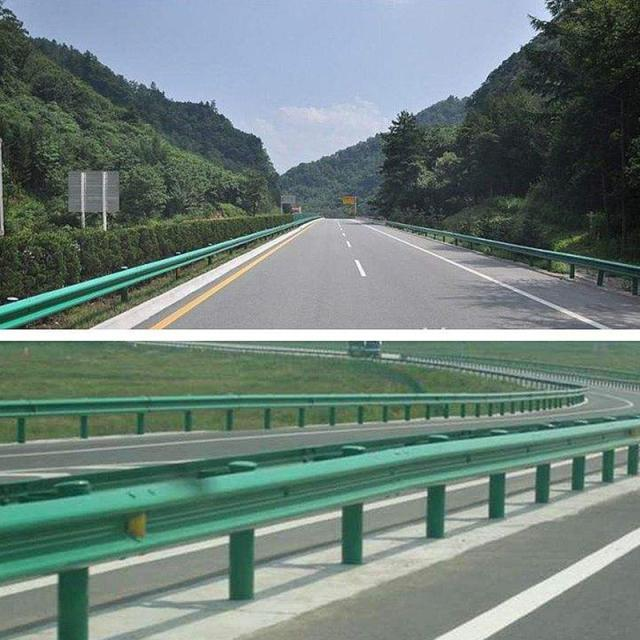Guard rail: (4, 418, 634, 584), (0, 216, 319, 328), (19, 393, 543, 421), (386, 221, 640, 277)
